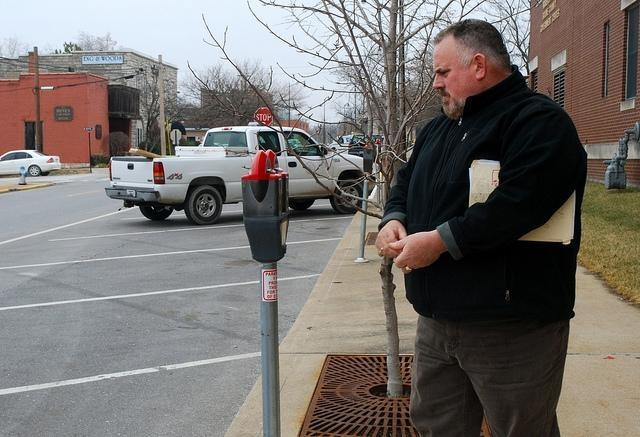car: (0, 149, 62, 176), (348, 135, 383, 158)
truck: (104, 123, 365, 224)
